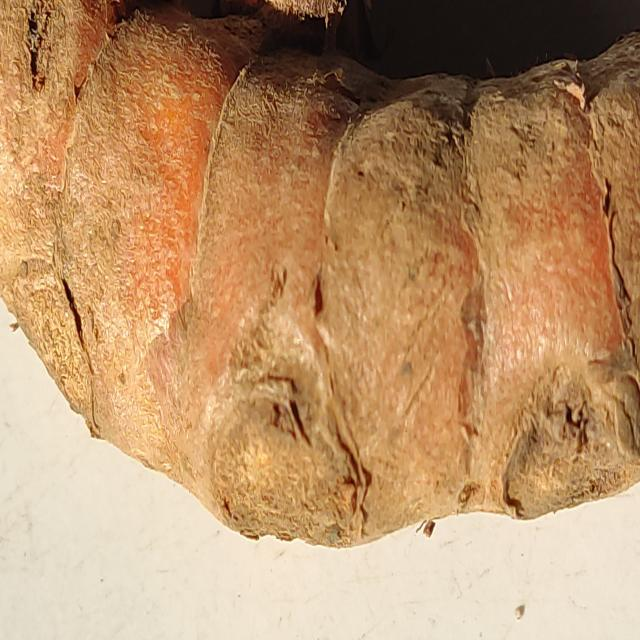ginger: (6, 0, 640, 518)
